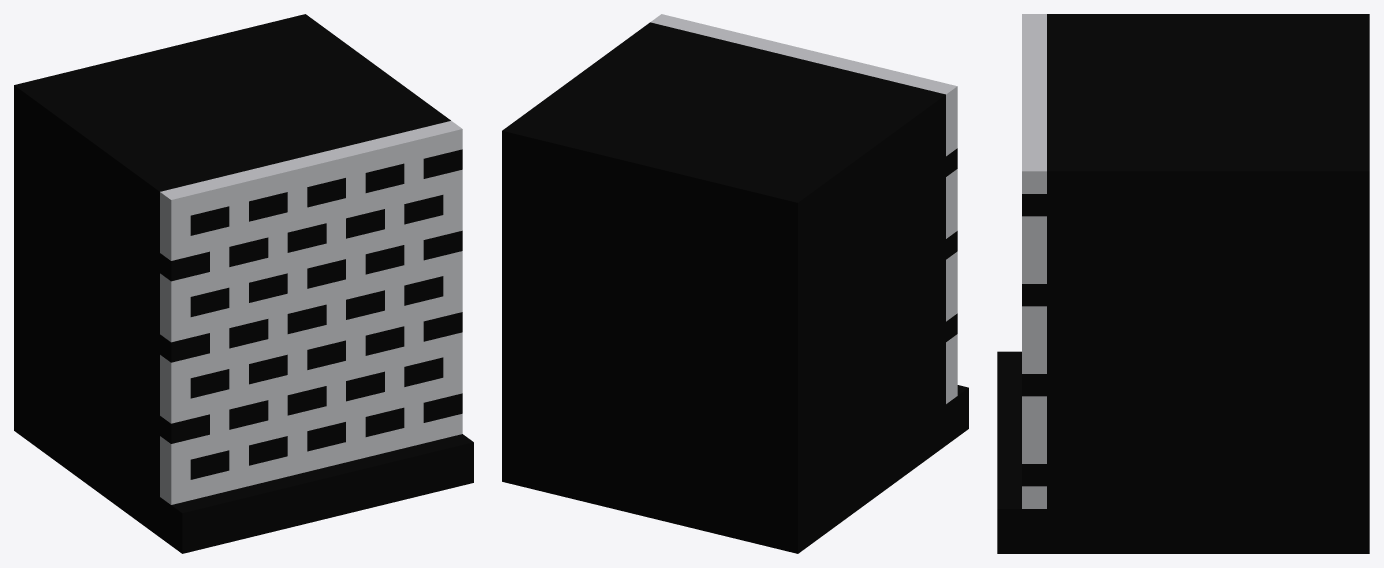
File: dungeon_d_b_outer_wall_segment_a.obj
The picture shows the model from 3 angles, left to right: view 1: azimuth 30°, elevation 25°; view 2: azimuth 150°, elevation 25°; view 3: azimuth 270°, elevation 25°; orthographic projection. The views are drawn at different scales.
Size of the model in its own units: 1.5 by 1.7 by 1.5.
Materials: 1 (1 with a texture image).
